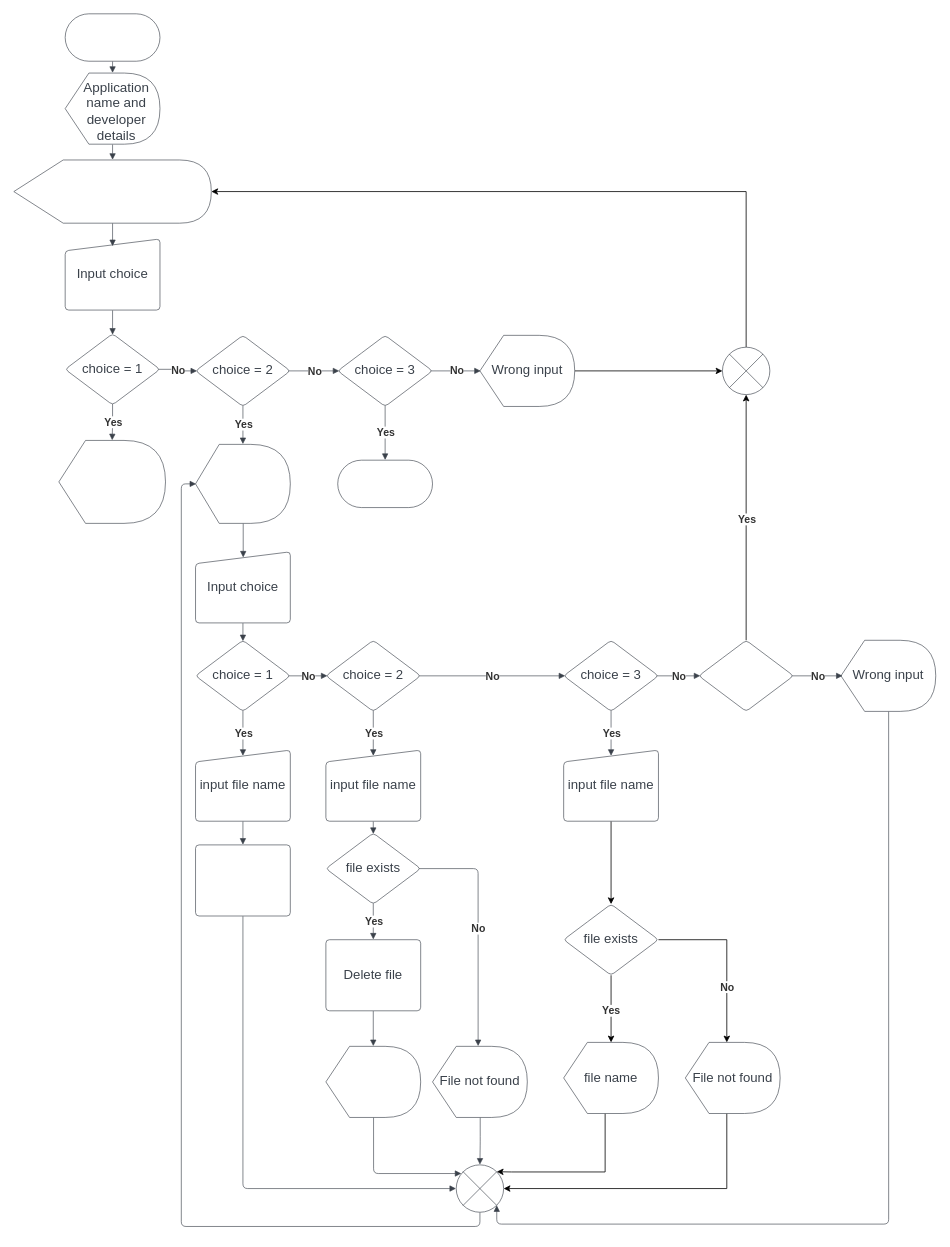
This 950x1247 diagram has some shape labels left out. Here are the shapes that lost their labels. From the top down, the centre of each, then its label:
At [112,37]: "Start".
At [112,191]: "1- files 2- folder actions context menu 3- exit".
At [111,481]: "File names in root directory in ascending order".
At [242,483]: "1- add file 2- delete file 3- search file 4- go back".
At [384,483]: "End".
At [745,675]: "choice = 4".
At [242,880]: "Create file".
At [373,1081]: "Deleted successfully".
